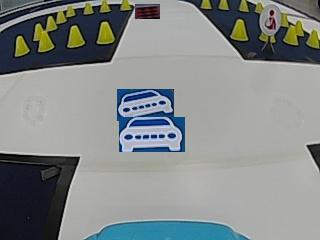cone: (66, 25, 86, 47), (96, 21, 115, 44), (230, 19, 248, 41), (38, 30, 54, 51), (14, 35, 29, 55), (284, 25, 299, 45), (306, 28, 319, 48), (45, 15, 57, 30), (83, 2, 94, 15), (99, 0, 110, 13), (56, 10, 67, 23), (119, 0, 131, 11), (199, 0, 212, 10), (238, 1, 249, 12), (65, 5, 76, 16), (218, 0, 229, 10), (253, 2, 263, 13)
patient: (261, 4, 279, 33)
